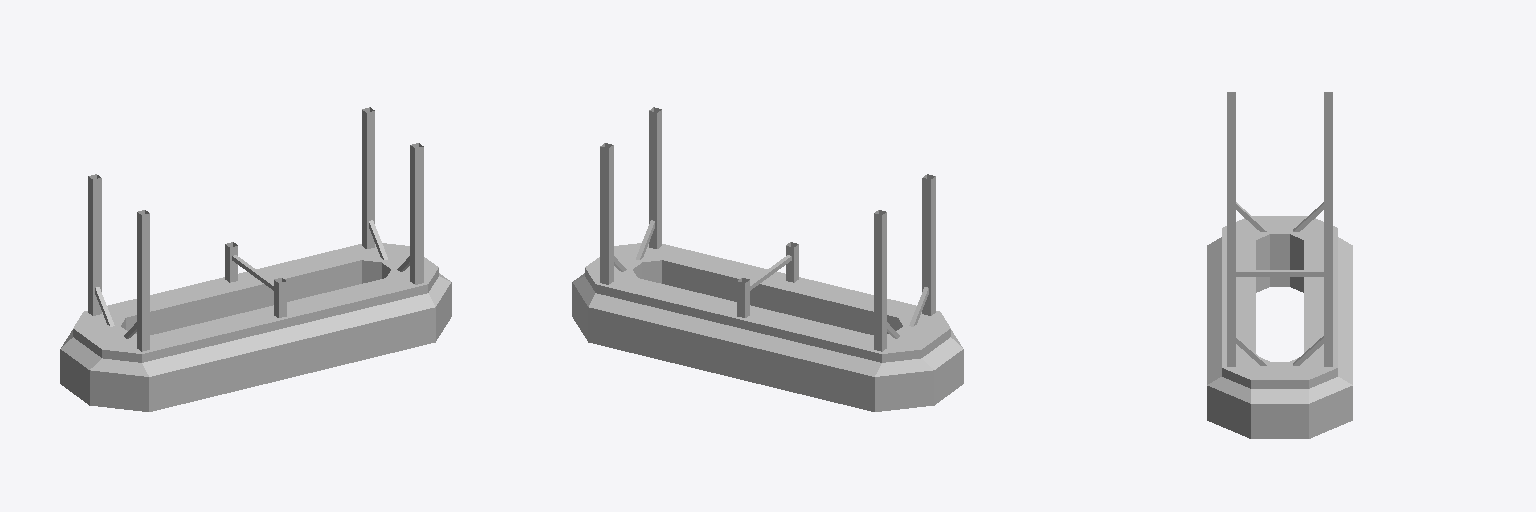
The model's file is sgc_briefingroom_center_light_physics.obj.
3 renders of one model, left to right at view 1: azimuth 30°, elevation 25°; view 2: azimuth 150°, elevation 25°; view 3: azimuth 270°, elevation 25°, orthographic.
Visible parts, largest first — view 1: Briefing_Room_Center_Light_Physics; view 2: Briefing_Room_Center_Light_Physics; view 3: Briefing_Room_Center_Light_Physics.
Part boxes in pixels (left/top/right/bottom): Briefing_Room_Center_Light_Physics: left=60, top=107, right=451, bottom=411; Briefing_Room_Center_Light_Physics: left=572, top=107, right=963, bottom=411; Briefing_Room_Center_Light_Physics: left=1207, top=92, right=1352, bottom=438.
Bounding box in the file's own units: 52.43 × 26.21 × 18.29.